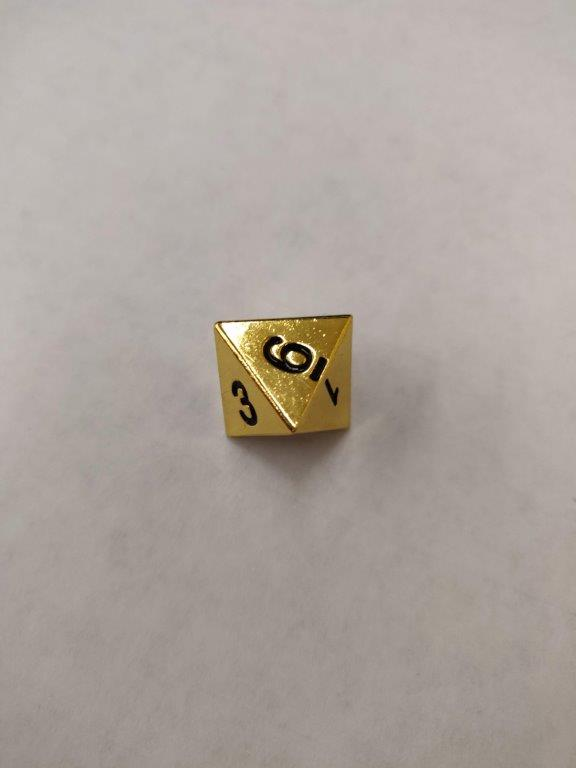d8-6: (213, 312, 353, 443)
